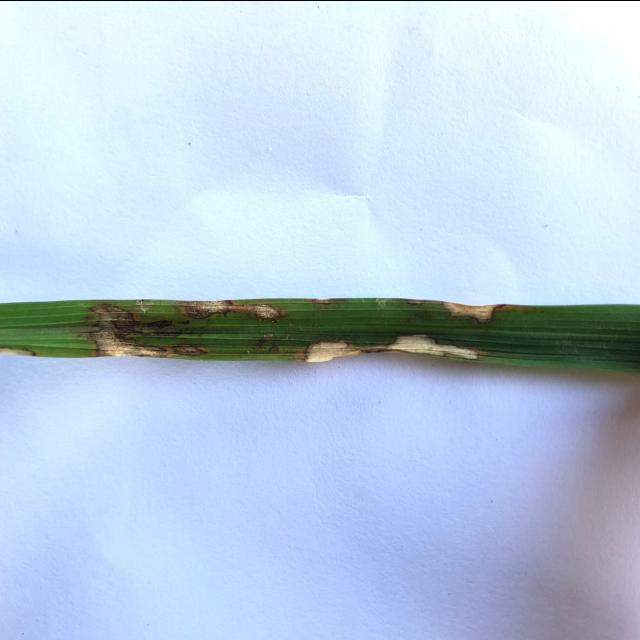Leaf Blight: (88, 302, 207, 356), (303, 333, 481, 363), (178, 300, 286, 321), (438, 297, 499, 320), (0, 345, 37, 355), (311, 295, 337, 304)
